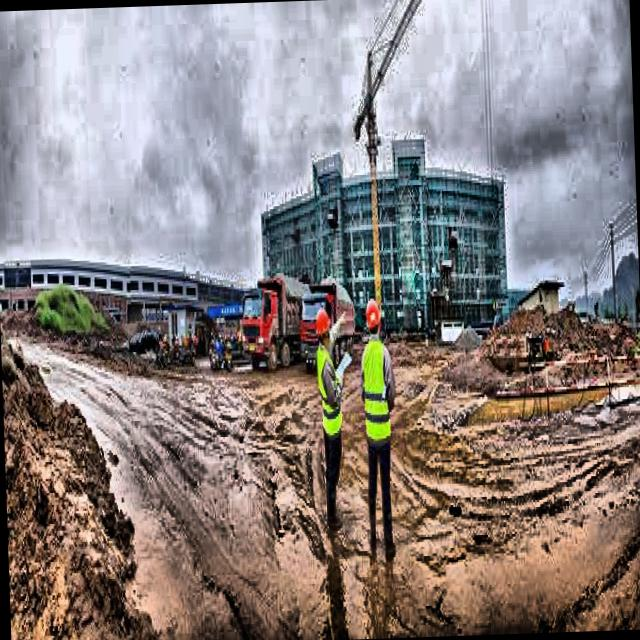helmet: (364, 295, 383, 343), (313, 304, 329, 346)
